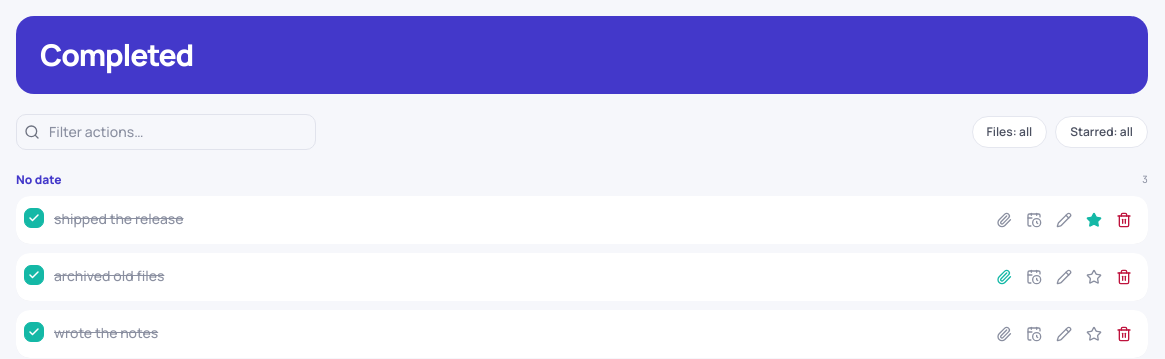
Scenario: done archive filters › searches completed actions
The image size is (1165, 359).
expect the button "shipped the release" is shown: met, box [54,208,184,228]
Type "notes" into the field labelled "Filter actions". click: x=166, y=132
box: [16,114,316,150]
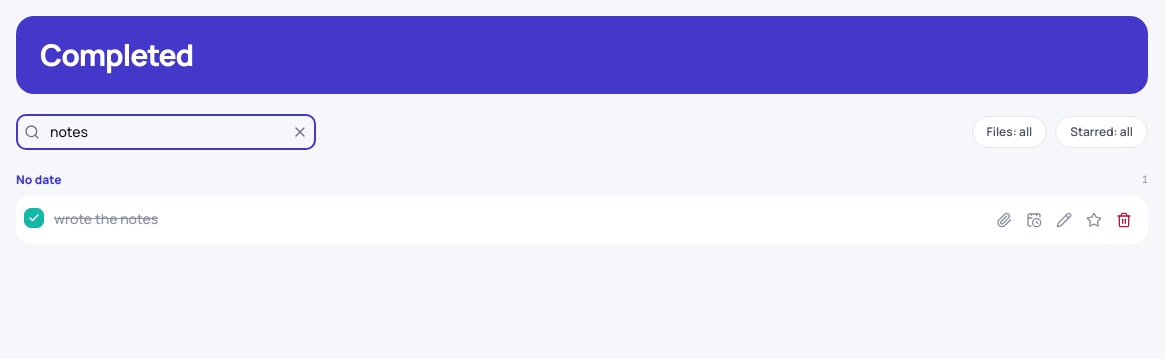
expect the button "wrote the notes" is shown: met, box [54,208,158,228]
expect the button "shipped the release" is gone: met
